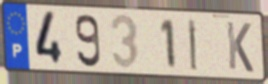1: (159, 19, 179, 70)
3: (110, 13, 142, 72)
4: (33, 9, 68, 69)
9: (74, 13, 102, 68)
I: (186, 18, 198, 73)
K: (224, 19, 255, 75)
